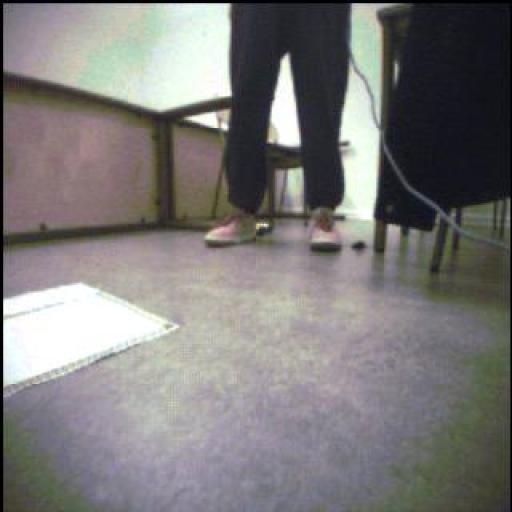Pad: (4, 284, 180, 398)
